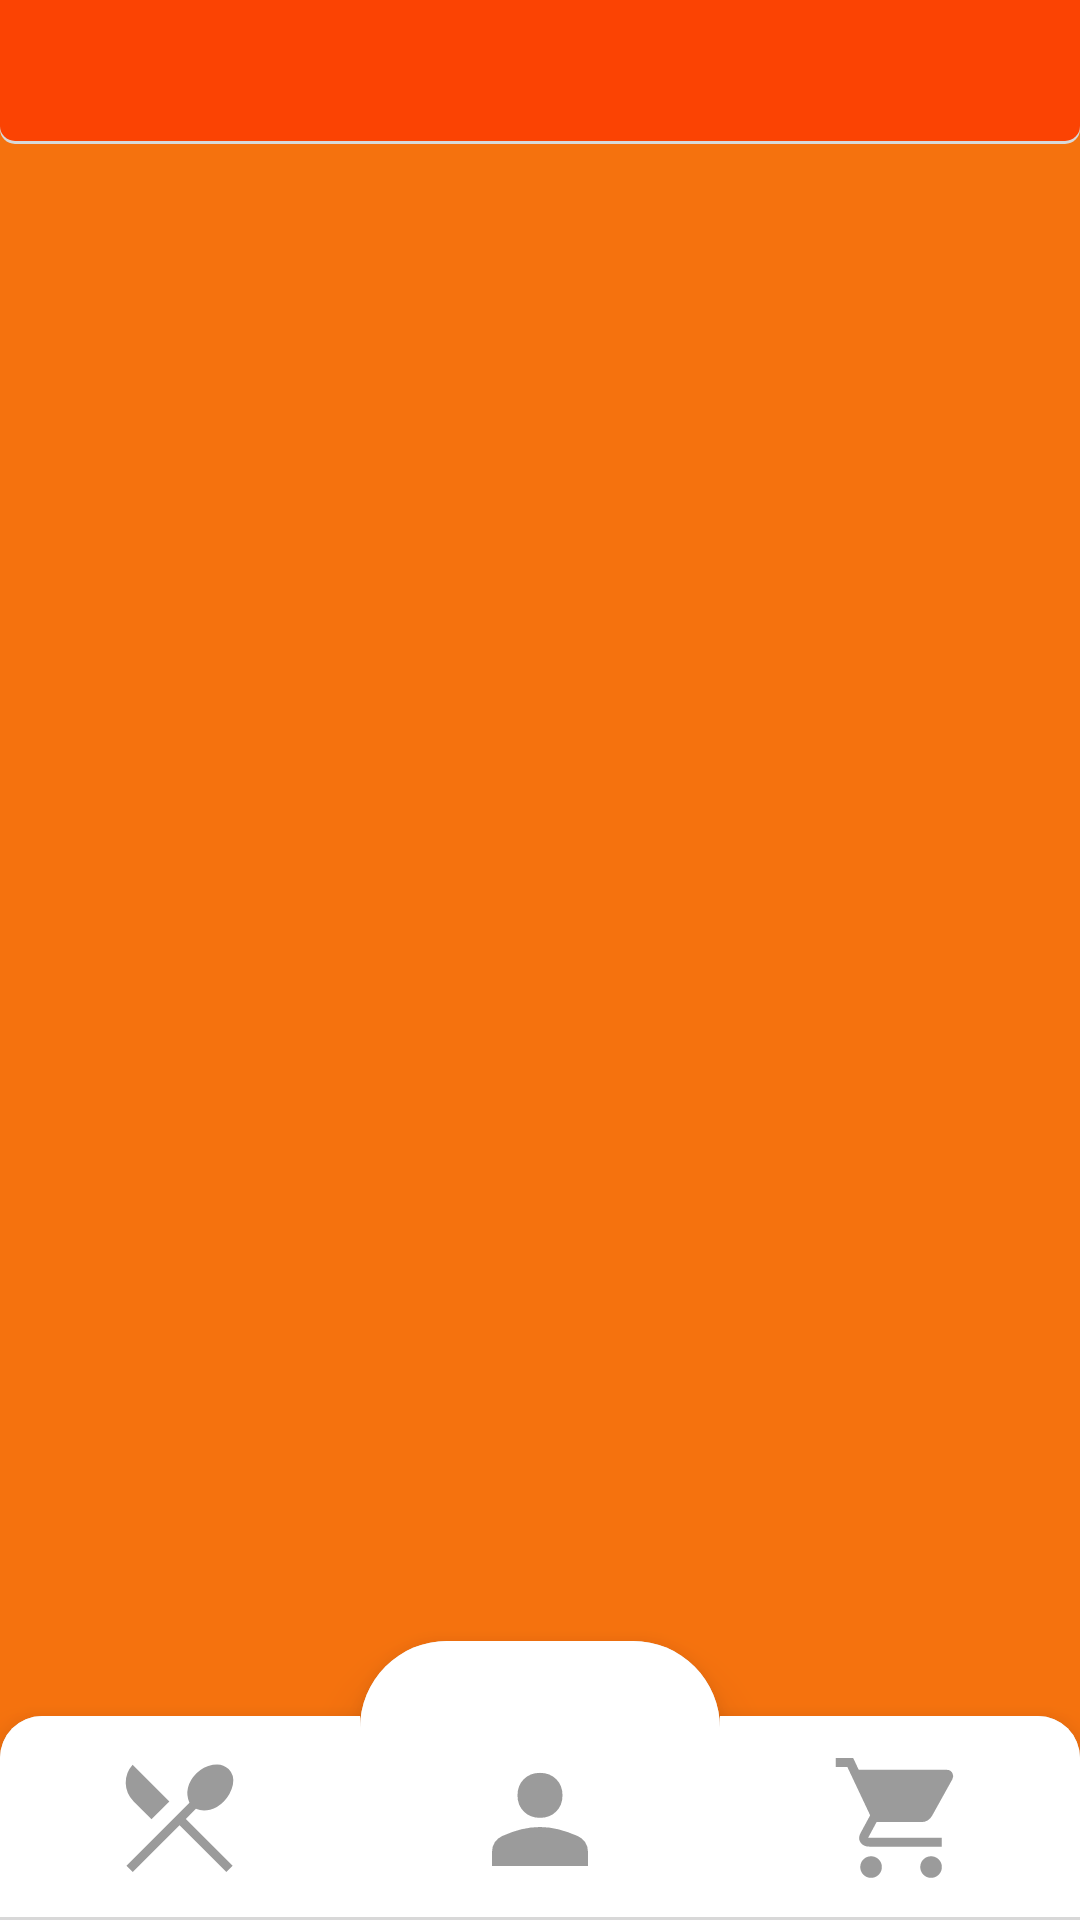

Where to tap for icons on this 1080 x 1920 app screen, as (x=x, y=y):
shopping cart: (x=900, y=1818)
user: (x=540, y=1780)
